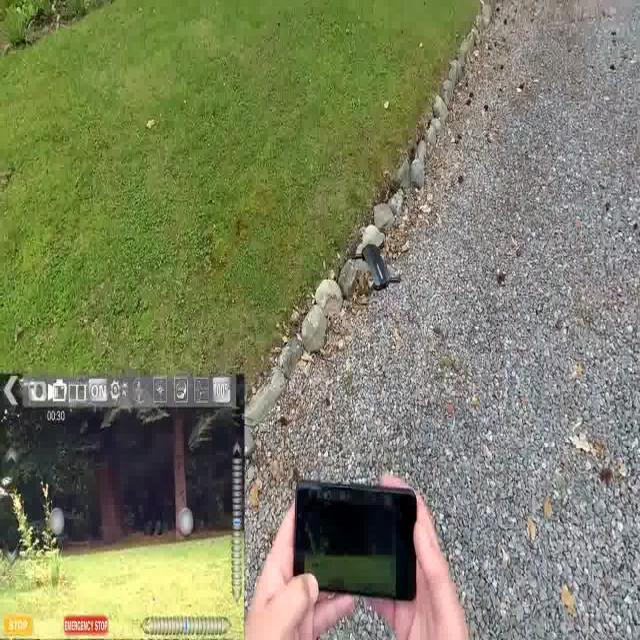Drone_FW: (350, 228, 402, 302)
